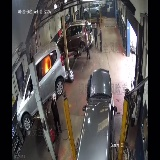fire: (41, 51, 54, 76)
